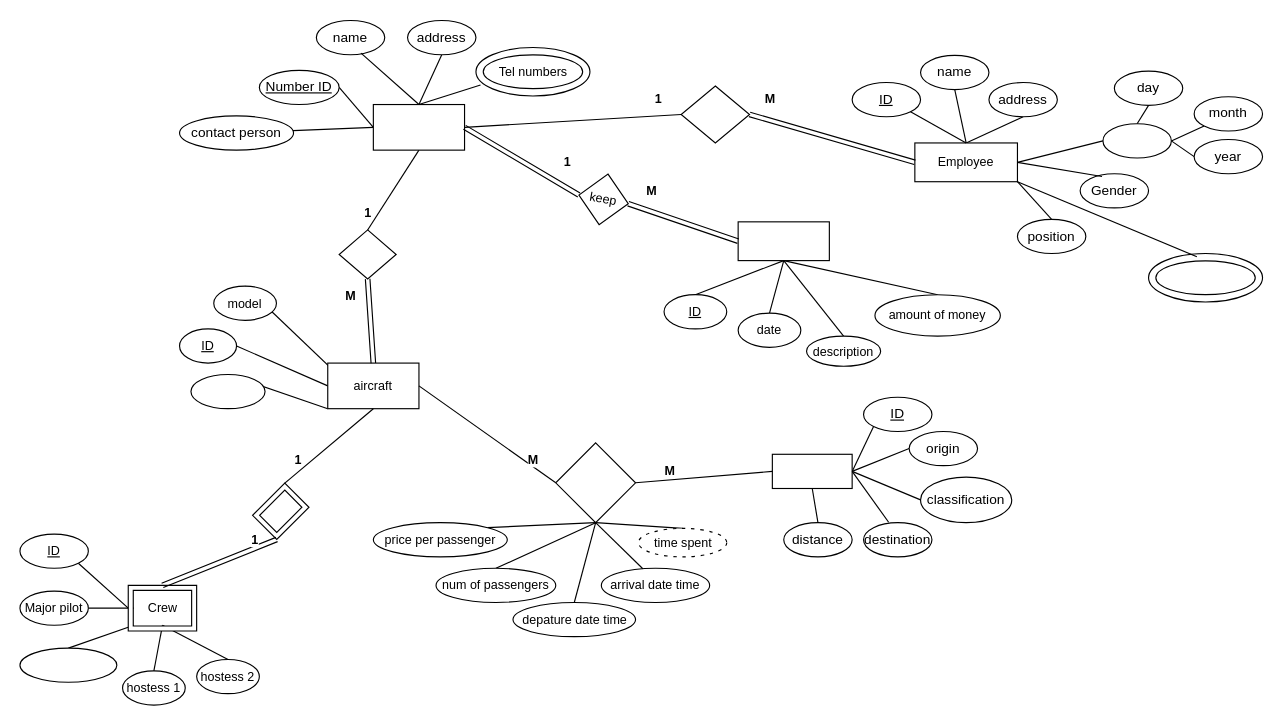
Image size: 1283x725. Some labels were removed from this diagram. The shapes that lost their labels are listed below. From the top down, each one's centre as x and y in pixels, then its label:
At point (418, 126): "airline".
At point (715, 114): "work".
At point (1136, 140): "birth date".
At point (367, 254): "own".
At point (783, 241): "Transaction".
At point (1205, 277): "qualifications".
At point (227, 391): "Capacity".
At point (595, 482): "assign".
At point (811, 470): "route".
At point (280, 511): "has".
At point (68, 664): "Assistance pilot".
